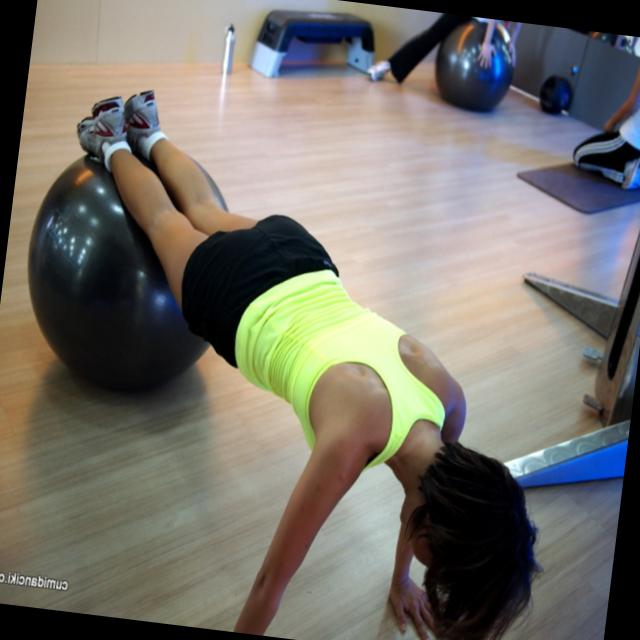Ball: (12, 136, 235, 404), (430, 13, 520, 114)
